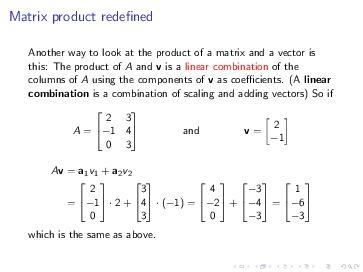paragraph: (21, 37, 341, 252)
title: (6, 8, 158, 26)
